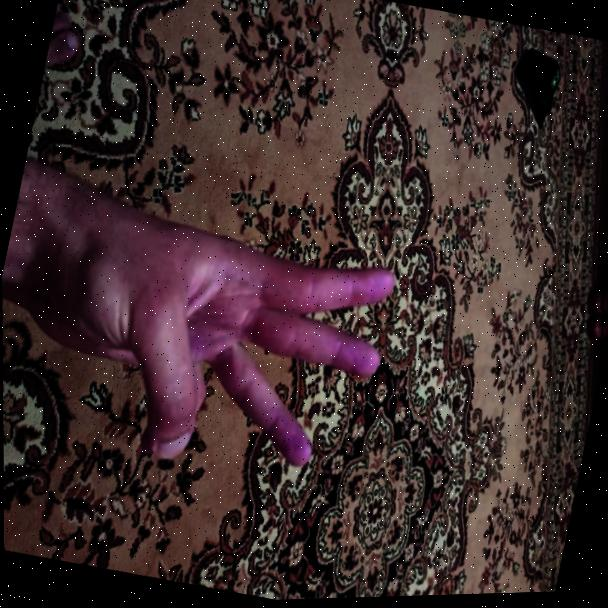five: (1, 134, 422, 519)
